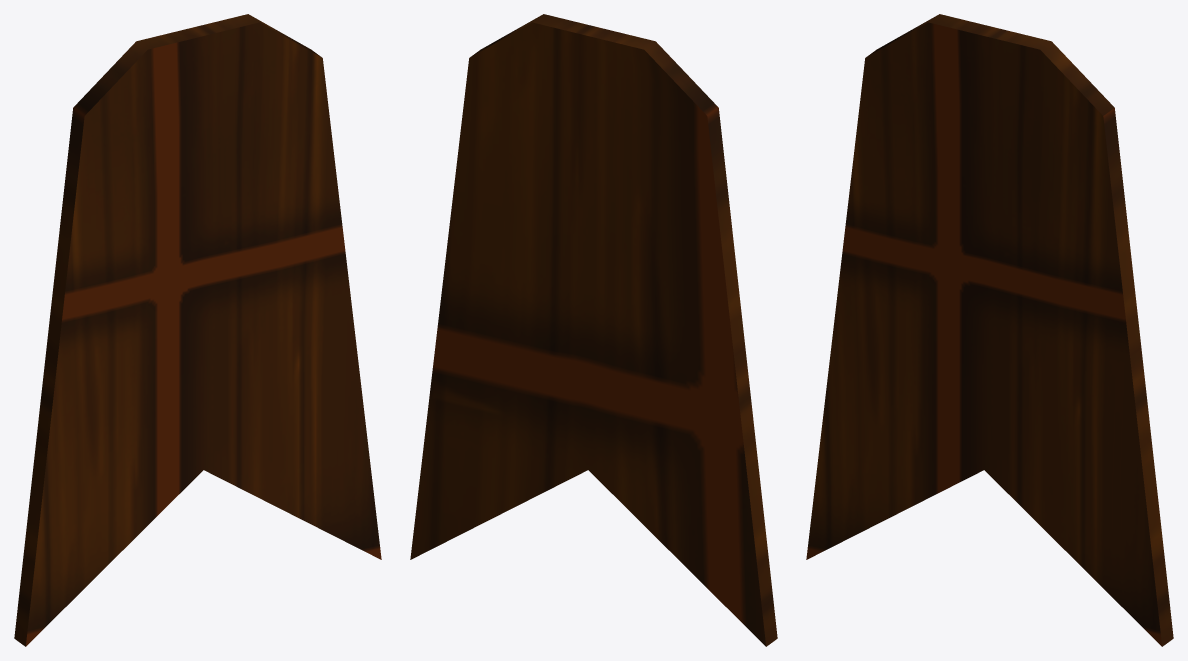
Rendered from Tag_Special_05.fbx.
3 renders of one model, left to right at view 1: azimuth 30°, elevation 25°; view 2: azimuth 150°, elevation 25°; view 3: azimuth 330°, elevation 25°, orthographic.
Parts seen in each view (by area): view 1: Tag_Special_05; view 2: Tag_Special_05; view 3: Tag_Special_05.
Part boxes in pixels (x1,y1,x2,y2): Tag_Special_05: (14,14,381,646); Tag_Special_05: (410,14,777,646); Tag_Special_05: (806,14,1173,646).
Size of the model in its own units: 17.93 by 27.32 by 1.
Materials: 1 (1 with a texture image).
